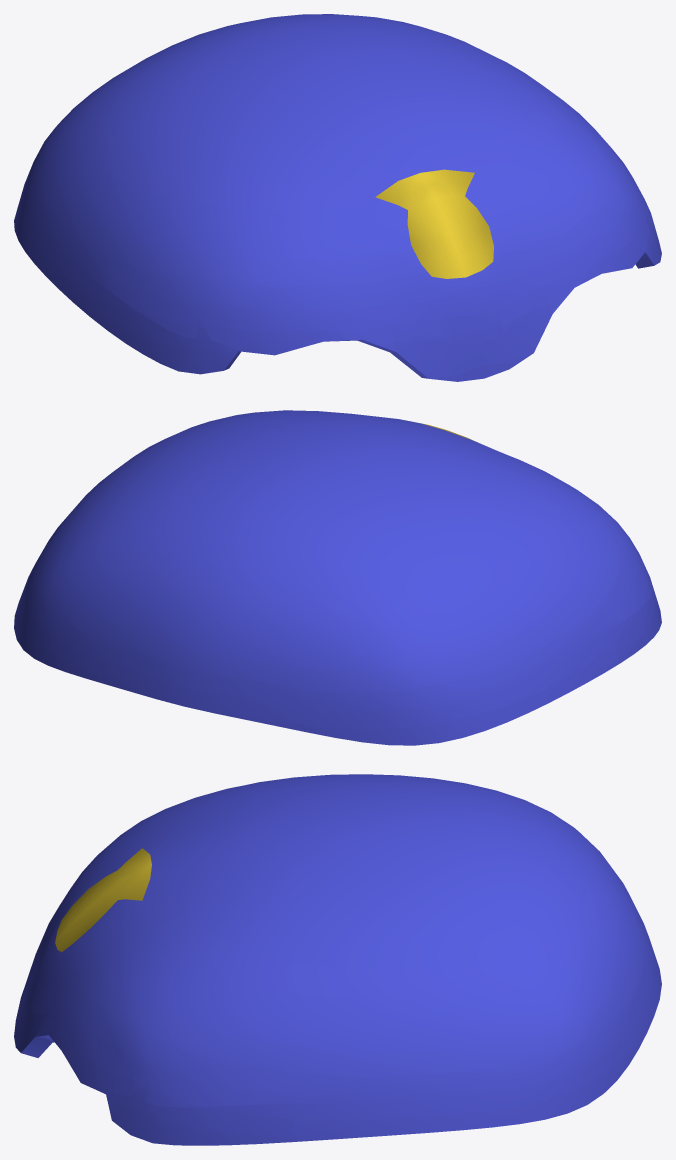
File: mascara.fbx
The picture shows the model from 3 angles, top to bottom: view 1: azimuth 30°, elevation 25°; view 2: azimuth 150°, elevation 25°; view 3: azimuth 270°, elevation 25°; orthographic projection. The views are drawn at different scales.
Visible parts, largest first — view 1: CMain_Head.002; view 2: CMain_Head.002; view 3: CMain_Head.002.
Part boxes in pixels (<box>): CMain_Head.002: <box>14,14,661,381</box>; CMain_Head.002: <box>14,410,661,745</box>; CMain_Head.002: <box>14,774,661,1145</box>.
Bounding box in the file's own units: 35.58 × 13.16 × 34.82.
